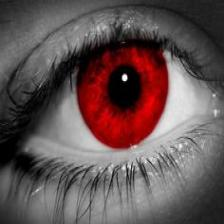red: (77, 43, 169, 140), (78, 61, 169, 147)
